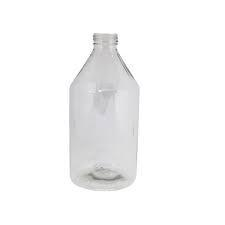bottle: (67, 32, 141, 193)
